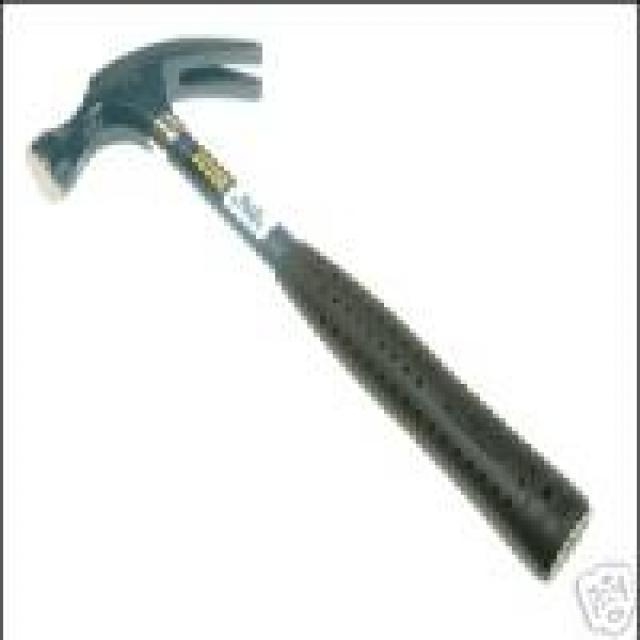hammer: (15, 18, 596, 584)
